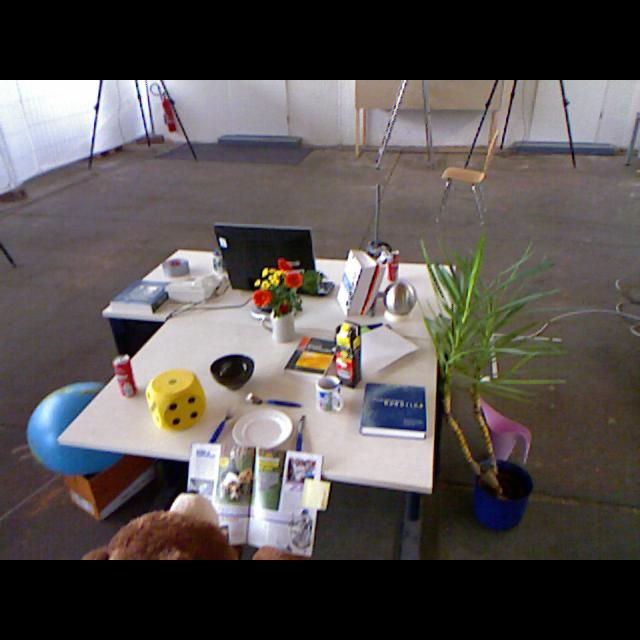Flat-Panel-Monitor: (216, 222, 316, 294)
Telephone-Set: (166, 274, 222, 304)
